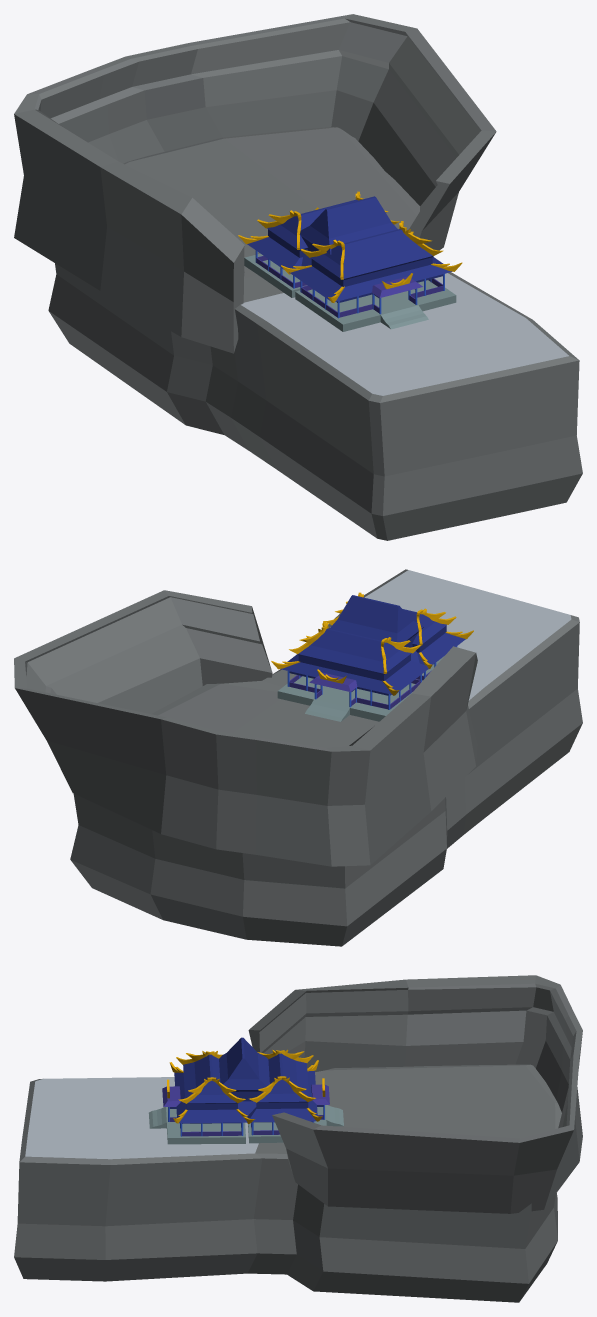
Rendered from SeiryuStage4__FinalBoss.fbx.
The picture shows the model from 3 angles, top to bottom: view 1: azimuth 30°, elevation 25°; view 2: azimuth 150°, elevation 25°; view 3: azimuth 270°, elevation 25°; orthographic projection. The views are drawn at different scales.
Parts seen in each view (by area): view 1: Cube.034, Cube.019, Cube.032, Cube.033, Plane.002, Cube.009, Plane.007, Plane.006, Cube.002, Cube.015, Cube.011; view 2: Cube.034, Cube.019, Cube.032, Cube.033, Plane.006, Plane.007, Cube.002, Plane.002, Cube.026, Cube.021; view 3: Cube.019, Cube.034, Cube.033, Cube.032, Plane.002, Plane.006, Plane.007, Cube.009, Cube.002, Cube.026, Cube.015.
Boxes of the visible parts, box(x1,y1,x2,y2) form: Cube.034: box(14, 14, 496, 353); Cube.019: box(48, 127, 582, 540); Cube.032: box(241, 273, 568, 395); Cube.033: box(125, 127, 416, 269); Plane.002: box(290, 229, 451, 301); Cube.009: box(295, 280, 456, 331); Plane.007: box(300, 196, 397, 266); Plane.006: box(247, 199, 357, 273); Cube.002: box(244, 253, 306, 297); Cube.015: box(301, 221, 443, 279); Cube.011: box(301, 278, 443, 317); Cube.034: box(14, 590, 477, 866); Cube.019: box(70, 569, 582, 946); Cube.032: box(330, 570, 571, 700); Cube.033: box(158, 683, 378, 747); Plane.006: box(280, 628, 428, 694); Plane.007: box(330, 595, 423, 663); Cube.002: box(277, 676, 415, 721); Plane.002: box(329, 609, 465, 664); Cube.026: box(289, 621, 420, 673); Cube.021: box(289, 675, 420, 709); Cube.019: box(14, 1064, 561, 1302); Cube.034: box(248, 975, 582, 1213); Cube.033: box(320, 1065, 555, 1138); Cube.032: box(25, 1077, 258, 1159); Plane.002: box(174, 1054, 247, 1123); Plane.006: box(247, 1053, 317, 1122); Plane.007: box(219, 1037, 269, 1115); Cube.009: box(148, 1107, 245, 1144); Cube.002: box(248, 1105, 343, 1143); Cube.026: box(249, 1049, 315, 1102); Cube.015: box(176, 1051, 245, 1103).
Bounding box in the file's own units: 63.94 × 36.45 × 93.45.
